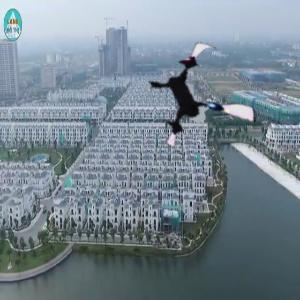drone: (140, 40, 261, 161)
